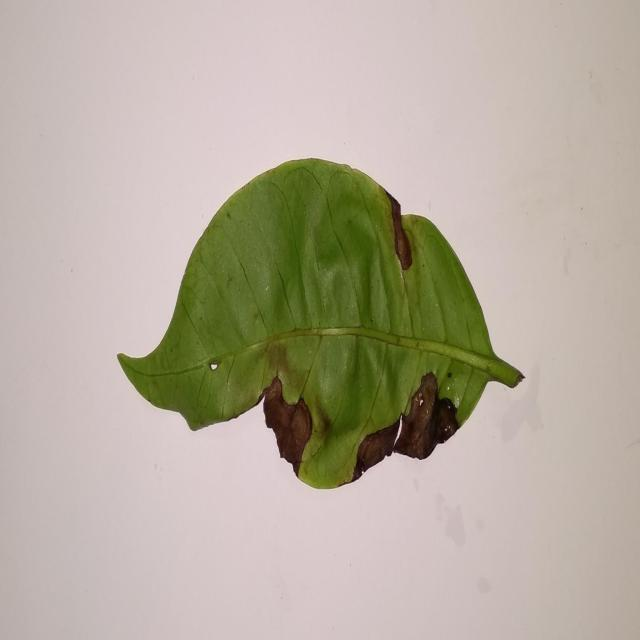Enfermedad-Antracnosis: (116, 159, 523, 494)
